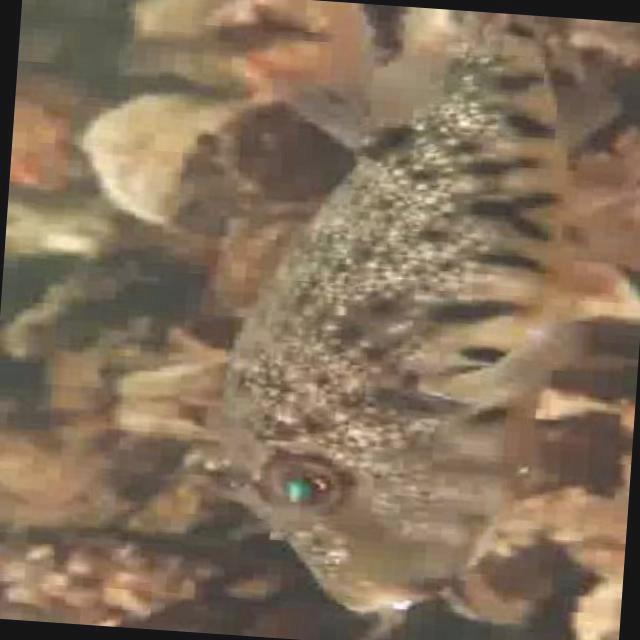Oyster-Closed: (0, 531, 306, 616), (3, 254, 194, 359), (90, 96, 247, 221), (213, 199, 319, 313), (436, 550, 563, 624), (122, 361, 229, 397), (113, 406, 213, 444), (574, 577, 623, 640)
Oyster-Open: (201, 0, 373, 71)
